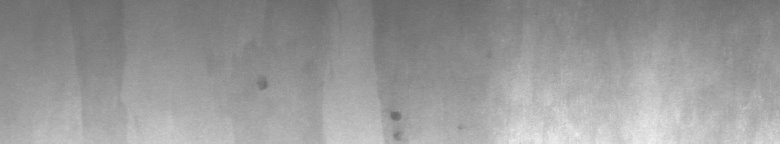fi: (389, 108, 463, 136)
